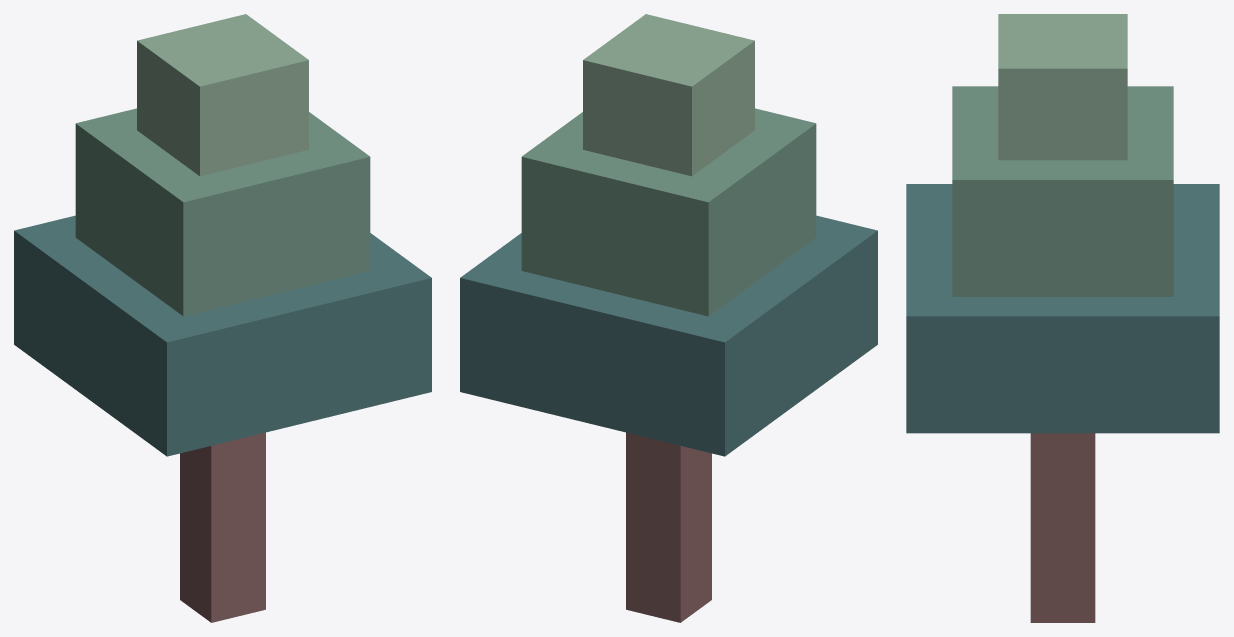
The model's file is prop_tree_pine.glb.
The picture shows the model from 3 angles, left to right: view 1: azimuth 30°, elevation 25°; view 2: azimuth 150°, elevation 25°; view 3: azimuth 270°, elevation 25°; orthographic projection. The views are drawn at different scales.
Visible parts, largest first — view 1: prop_tree_pine; view 2: prop_tree_pine; view 3: prop_tree_pine.
Boxes of the visible parts, left/top/right/bottom form: prop_tree_pine: left=14, top=14, right=431, bottom=622; prop_tree_pine: left=460, top=14, right=877, bottom=622; prop_tree_pine: left=906, top=14, right=1219, bottom=622.
Bounding box in the file's own units: 1.7 × 3.4 × 1.7.
